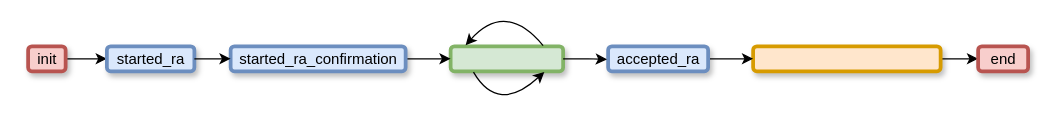
Image size: 1059x118. Some labels were removed from this diagram. The centre of each missing label's shape, as x and y in pixels:
"accepted_ra_confirmation" belongs at (x=847, y=60).
"ra_negotiating" belongs at (x=507, y=60).
